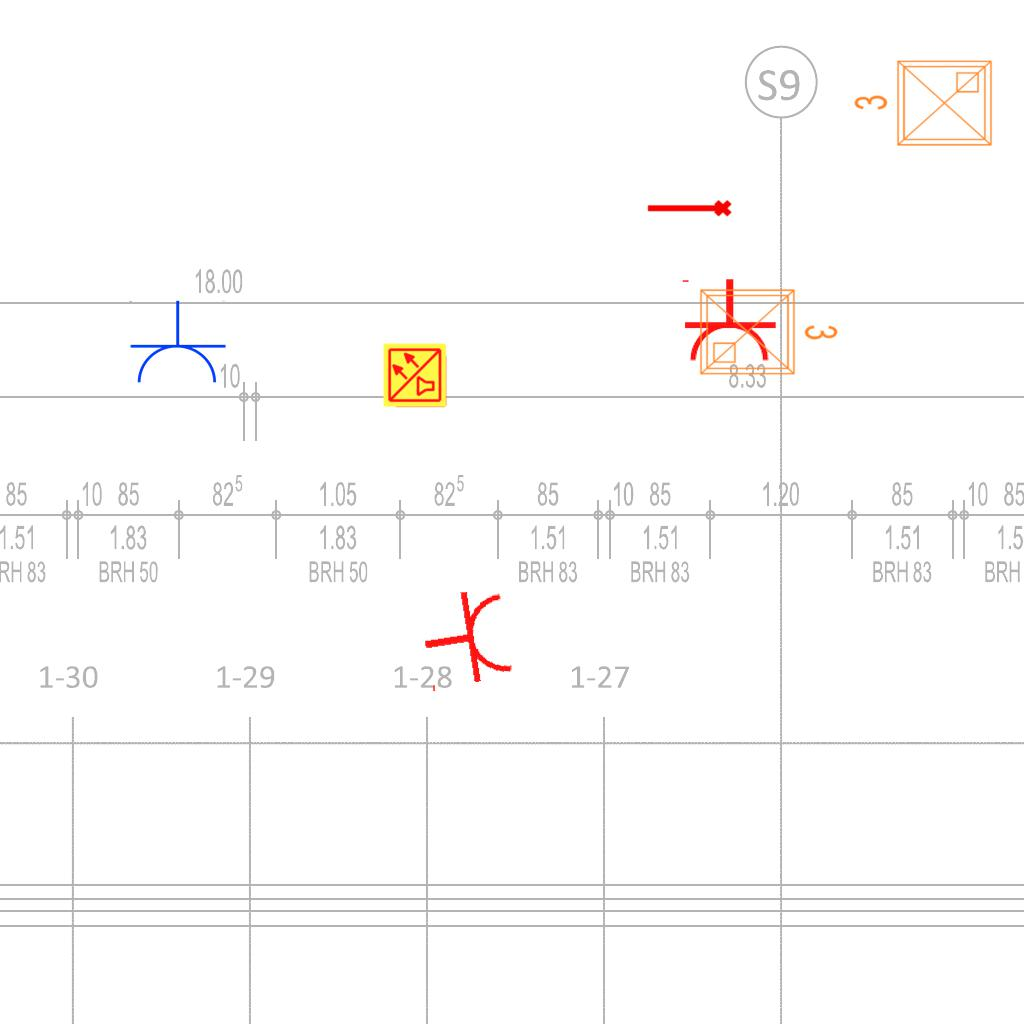ASR_Ansaugoeffnung: (645, 198, 733, 221)
Einbaudownlights_LED_Konferenzraeume: (849, 53, 999, 157), (693, 278, 843, 382)
OKW_Multisensormelder_(Kombination_optischer_Rauch-Kahlenmonoxid_Waerme-Melder): (382, 342, 448, 408)
Schukosteckdose_einfach: (415, 583, 518, 697), (678, 277, 778, 364), (127, 300, 227, 387)
